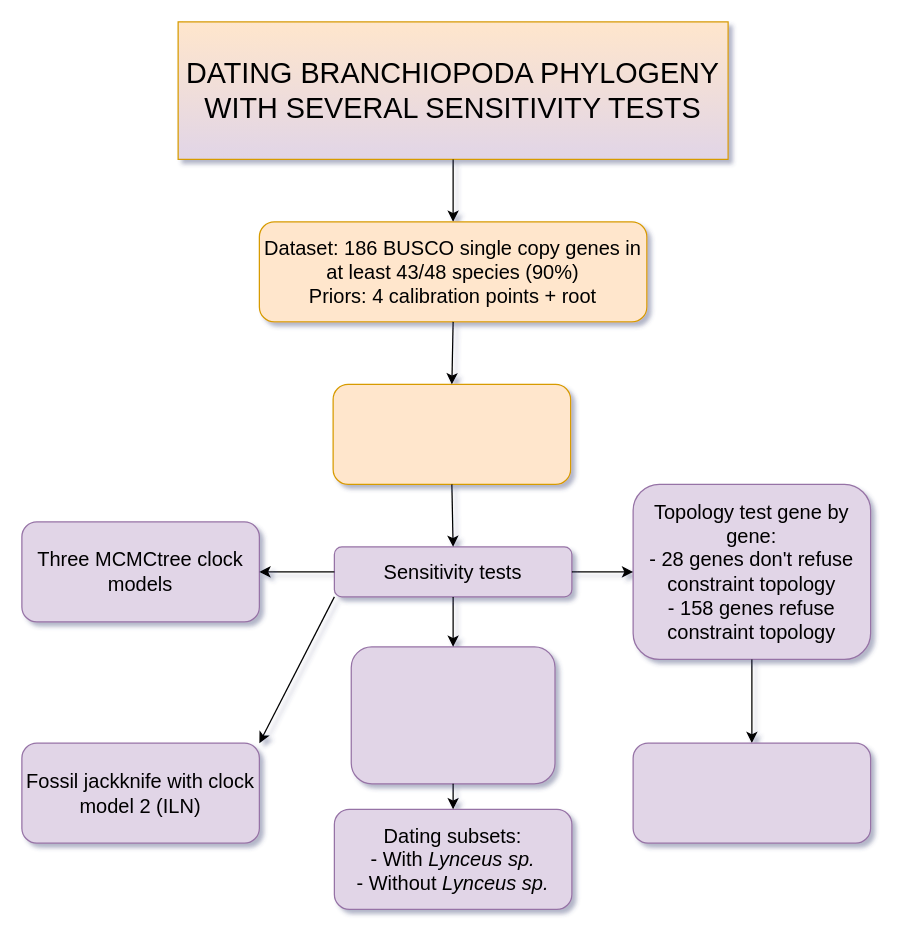
Some shapes in this 900 by 939 pixel diagram are drawn without their labels. Each missing label, with the centre of its shape:
"Dating subsets: - Concordant genes - Discordant genes" goes at point 751,792.
"Known topological problems with the placing of Laevicaudata ( Lynceus sp. )" goes at point 452,715.
"Nucleotides dating: - lsd2 - MCMCtree" goes at point 451,433.
